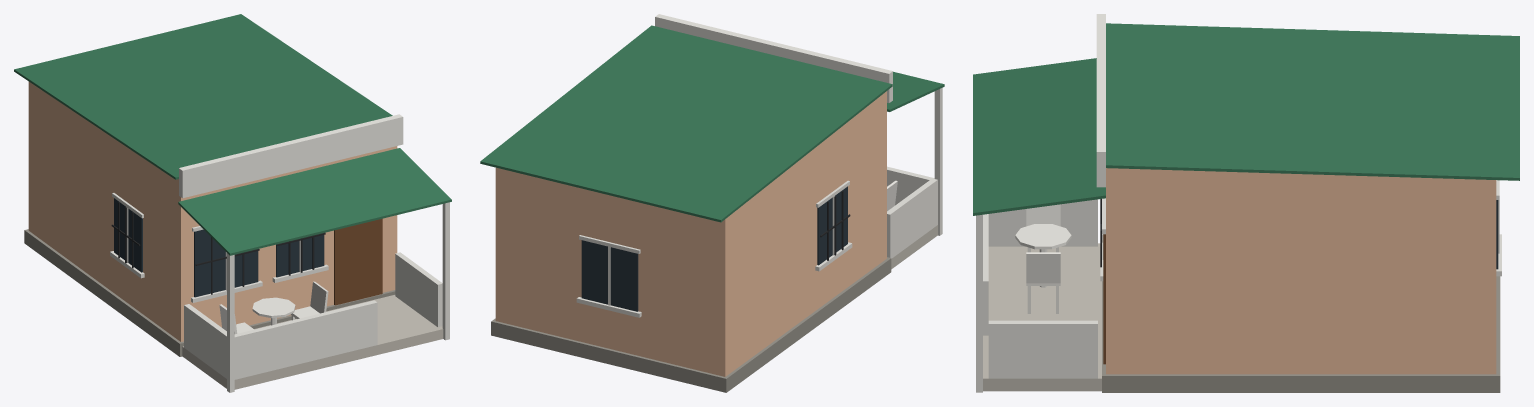
The model's file is BAY_F_Shop_N.glb.
3 renders of one model, left to right at view 1: azimuth 30°, elevation 25°; view 2: azimuth 150°, elevation 25°; view 3: azimuth 270°, elevation 25°, orthographic. The views are drawn at different scales.
Parts seen in each view (by area): view 1: BAY_F_Shop_N; view 2: BAY_F_Shop_N; view 3: BAY_F_Shop_N.
Boxes of the visible parts, x1=… form: BAY_F_Shop_N: x1=14, y1=14, x2=451, y2=392; BAY_F_Shop_N: x1=480, y1=14, x2=944, y2=392; BAY_F_Shop_N: x1=973, y1=14, x2=1519, y2=392.
Bounding box in the file's own units: 4.3 × 3.4 × 7.
Materials: 1 (1 with a texture image).
